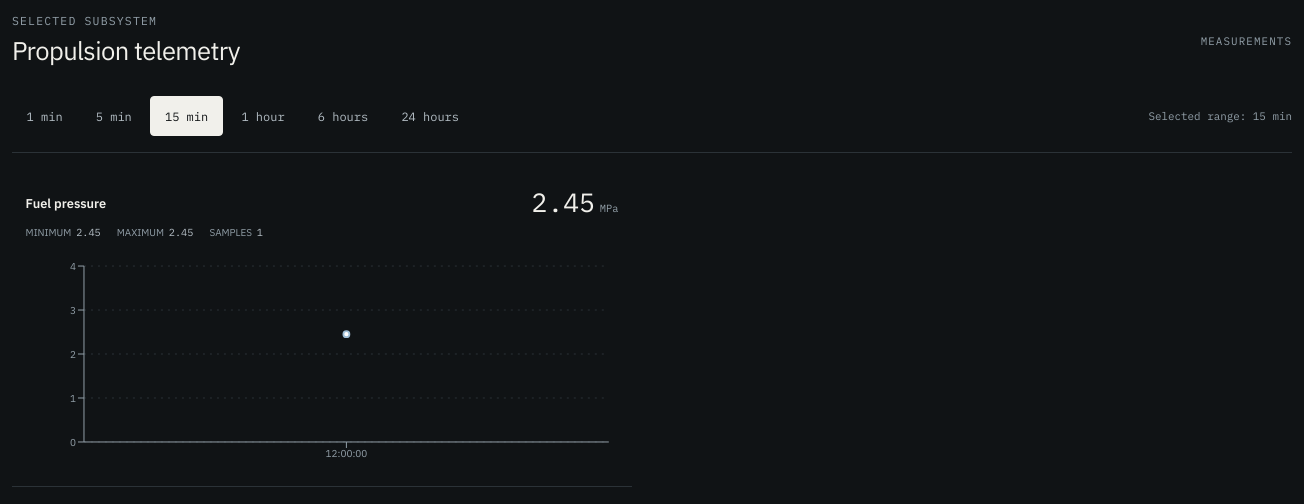
Scenario: TelemetryWorkspace › offers all bounded ranges as native single-selection controls
The image size is (1304, 504).
Click the button "1 hour" at (263, 116), box [227,96,299,136]
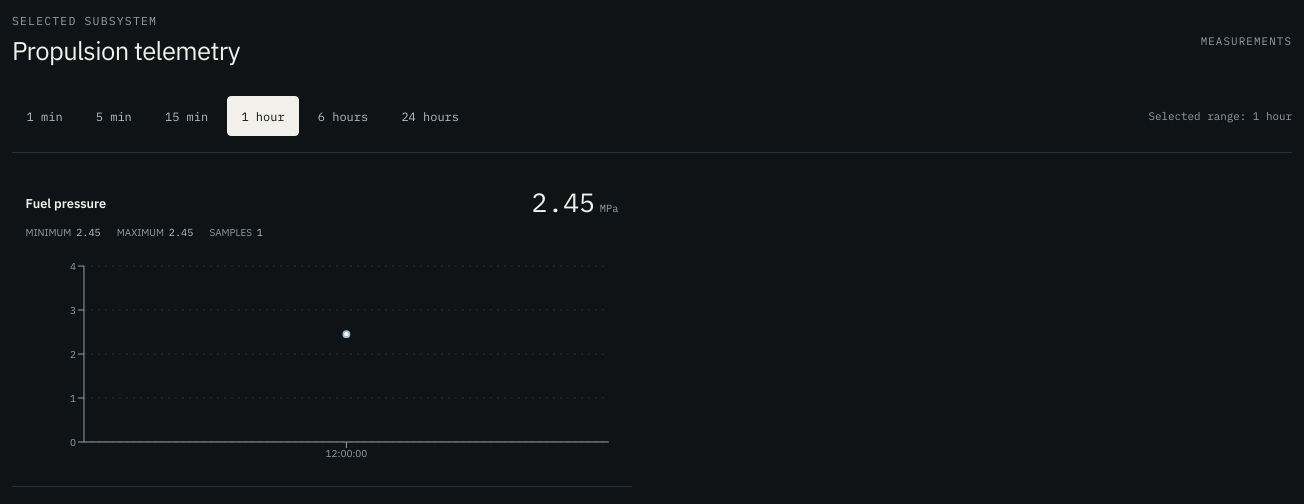
Now the text "Selected range: 1 hour" is shown, box [1148,109,1292,123]
